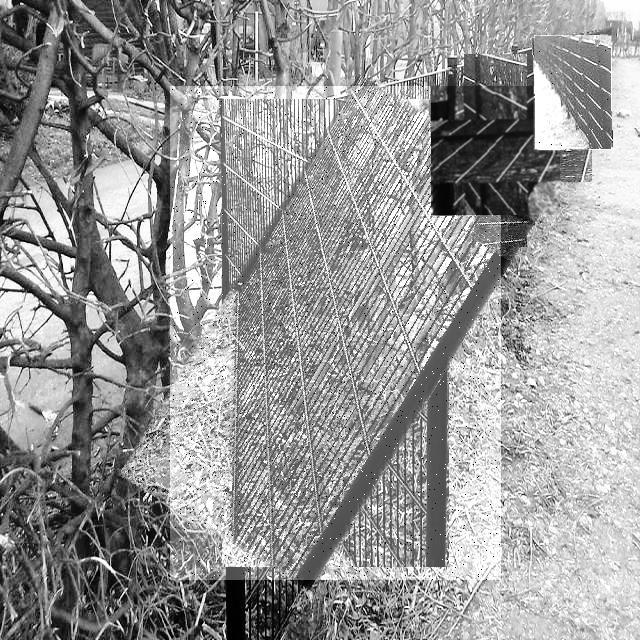fences: (170, 86, 501, 580), (431, 86, 560, 215), (534, 35, 612, 150)
